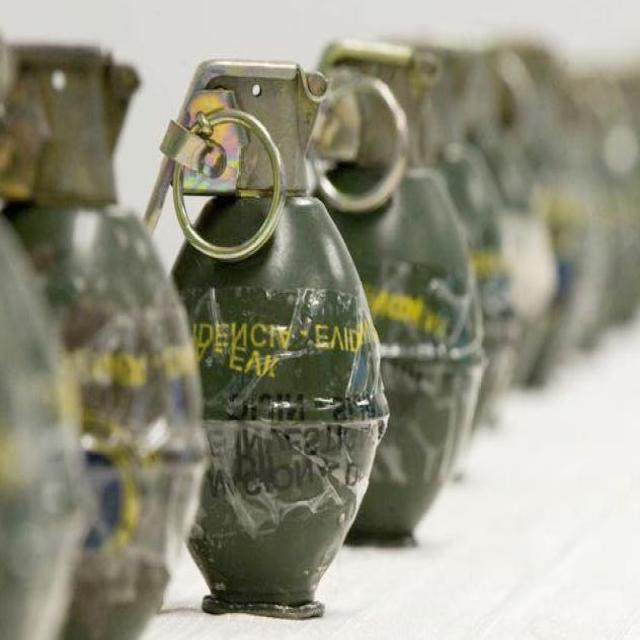grenade: (143, 62, 391, 623), (2, 42, 208, 640), (311, 40, 486, 548), (407, 45, 517, 433), (496, 39, 598, 394), (463, 49, 560, 394), (547, 71, 622, 353), (607, 63, 640, 335)
